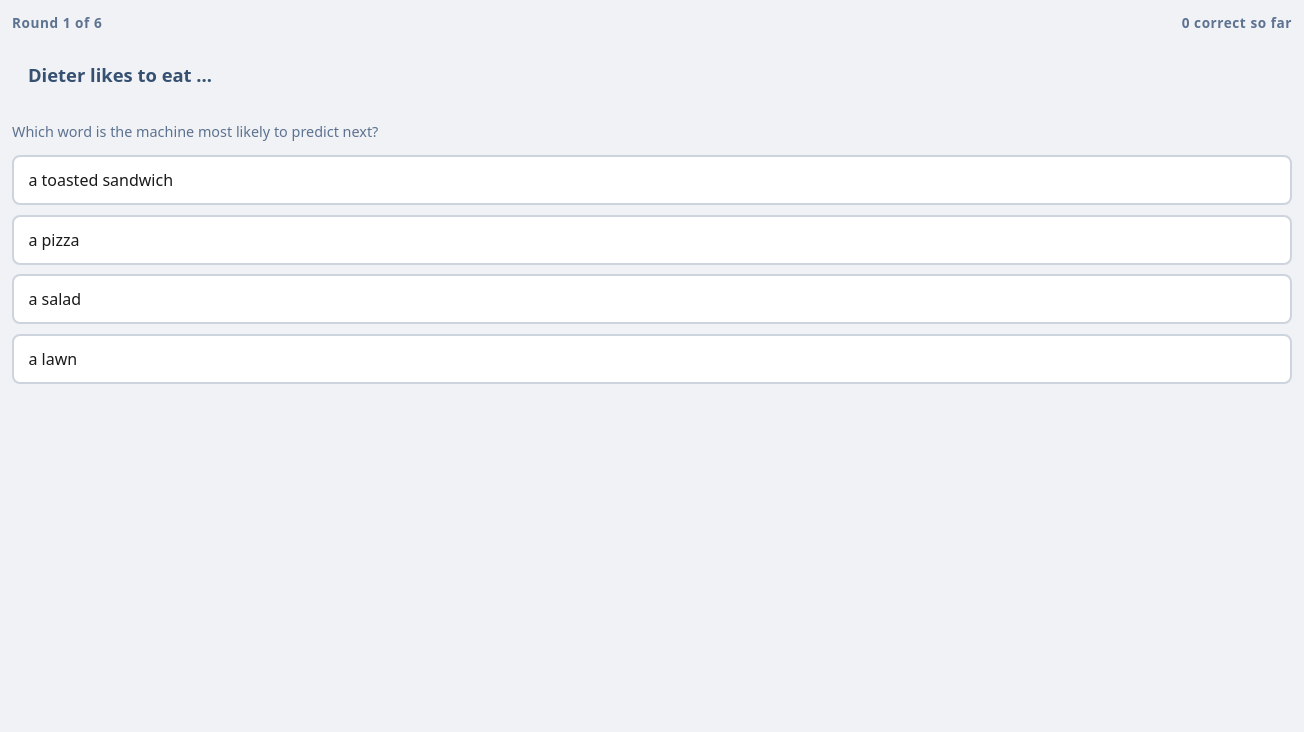
Test: TokenPredictor › reveals the distribution and explanation after a pick
Click the button "a toasted sandwich" at (101, 180), box [12,155,1292,205]
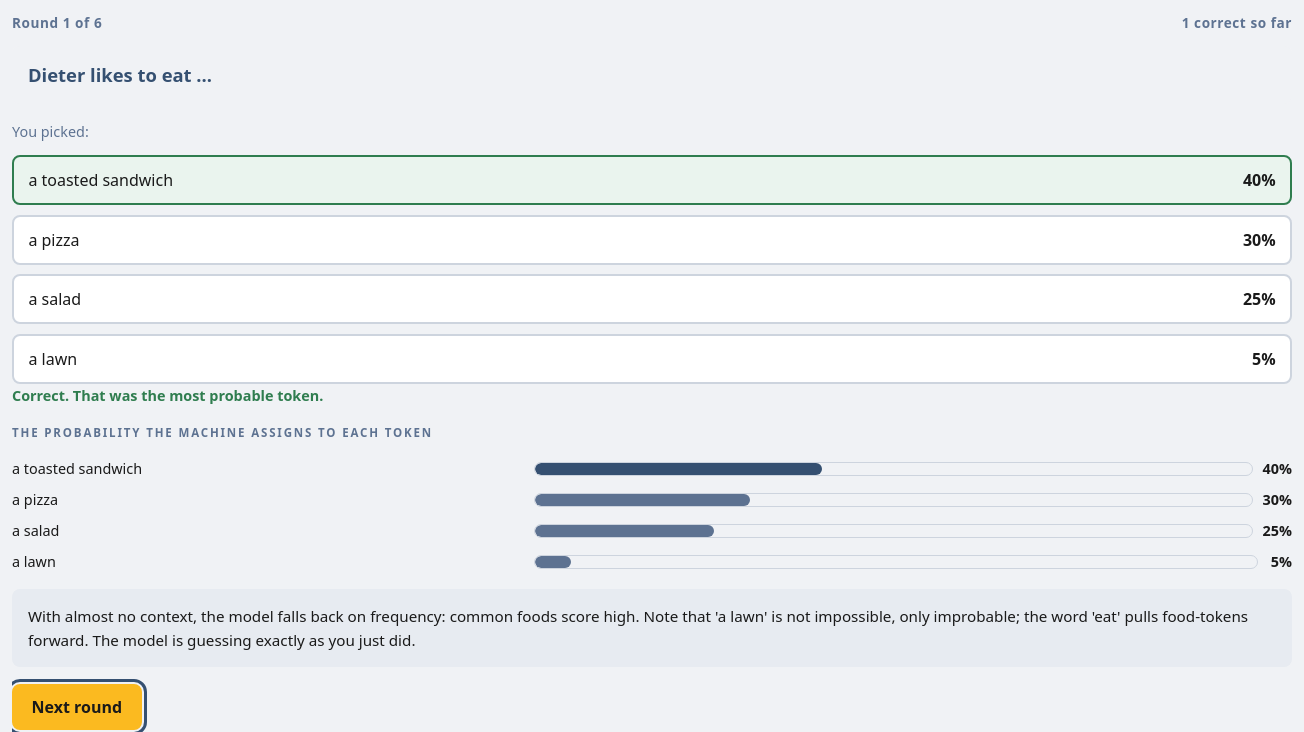
Expected: the text "The probability the machine assigns to each token" is shown, [12,425,433,440]
Expected: the text "With almost no context" is shown, [28,606,1248,650]
